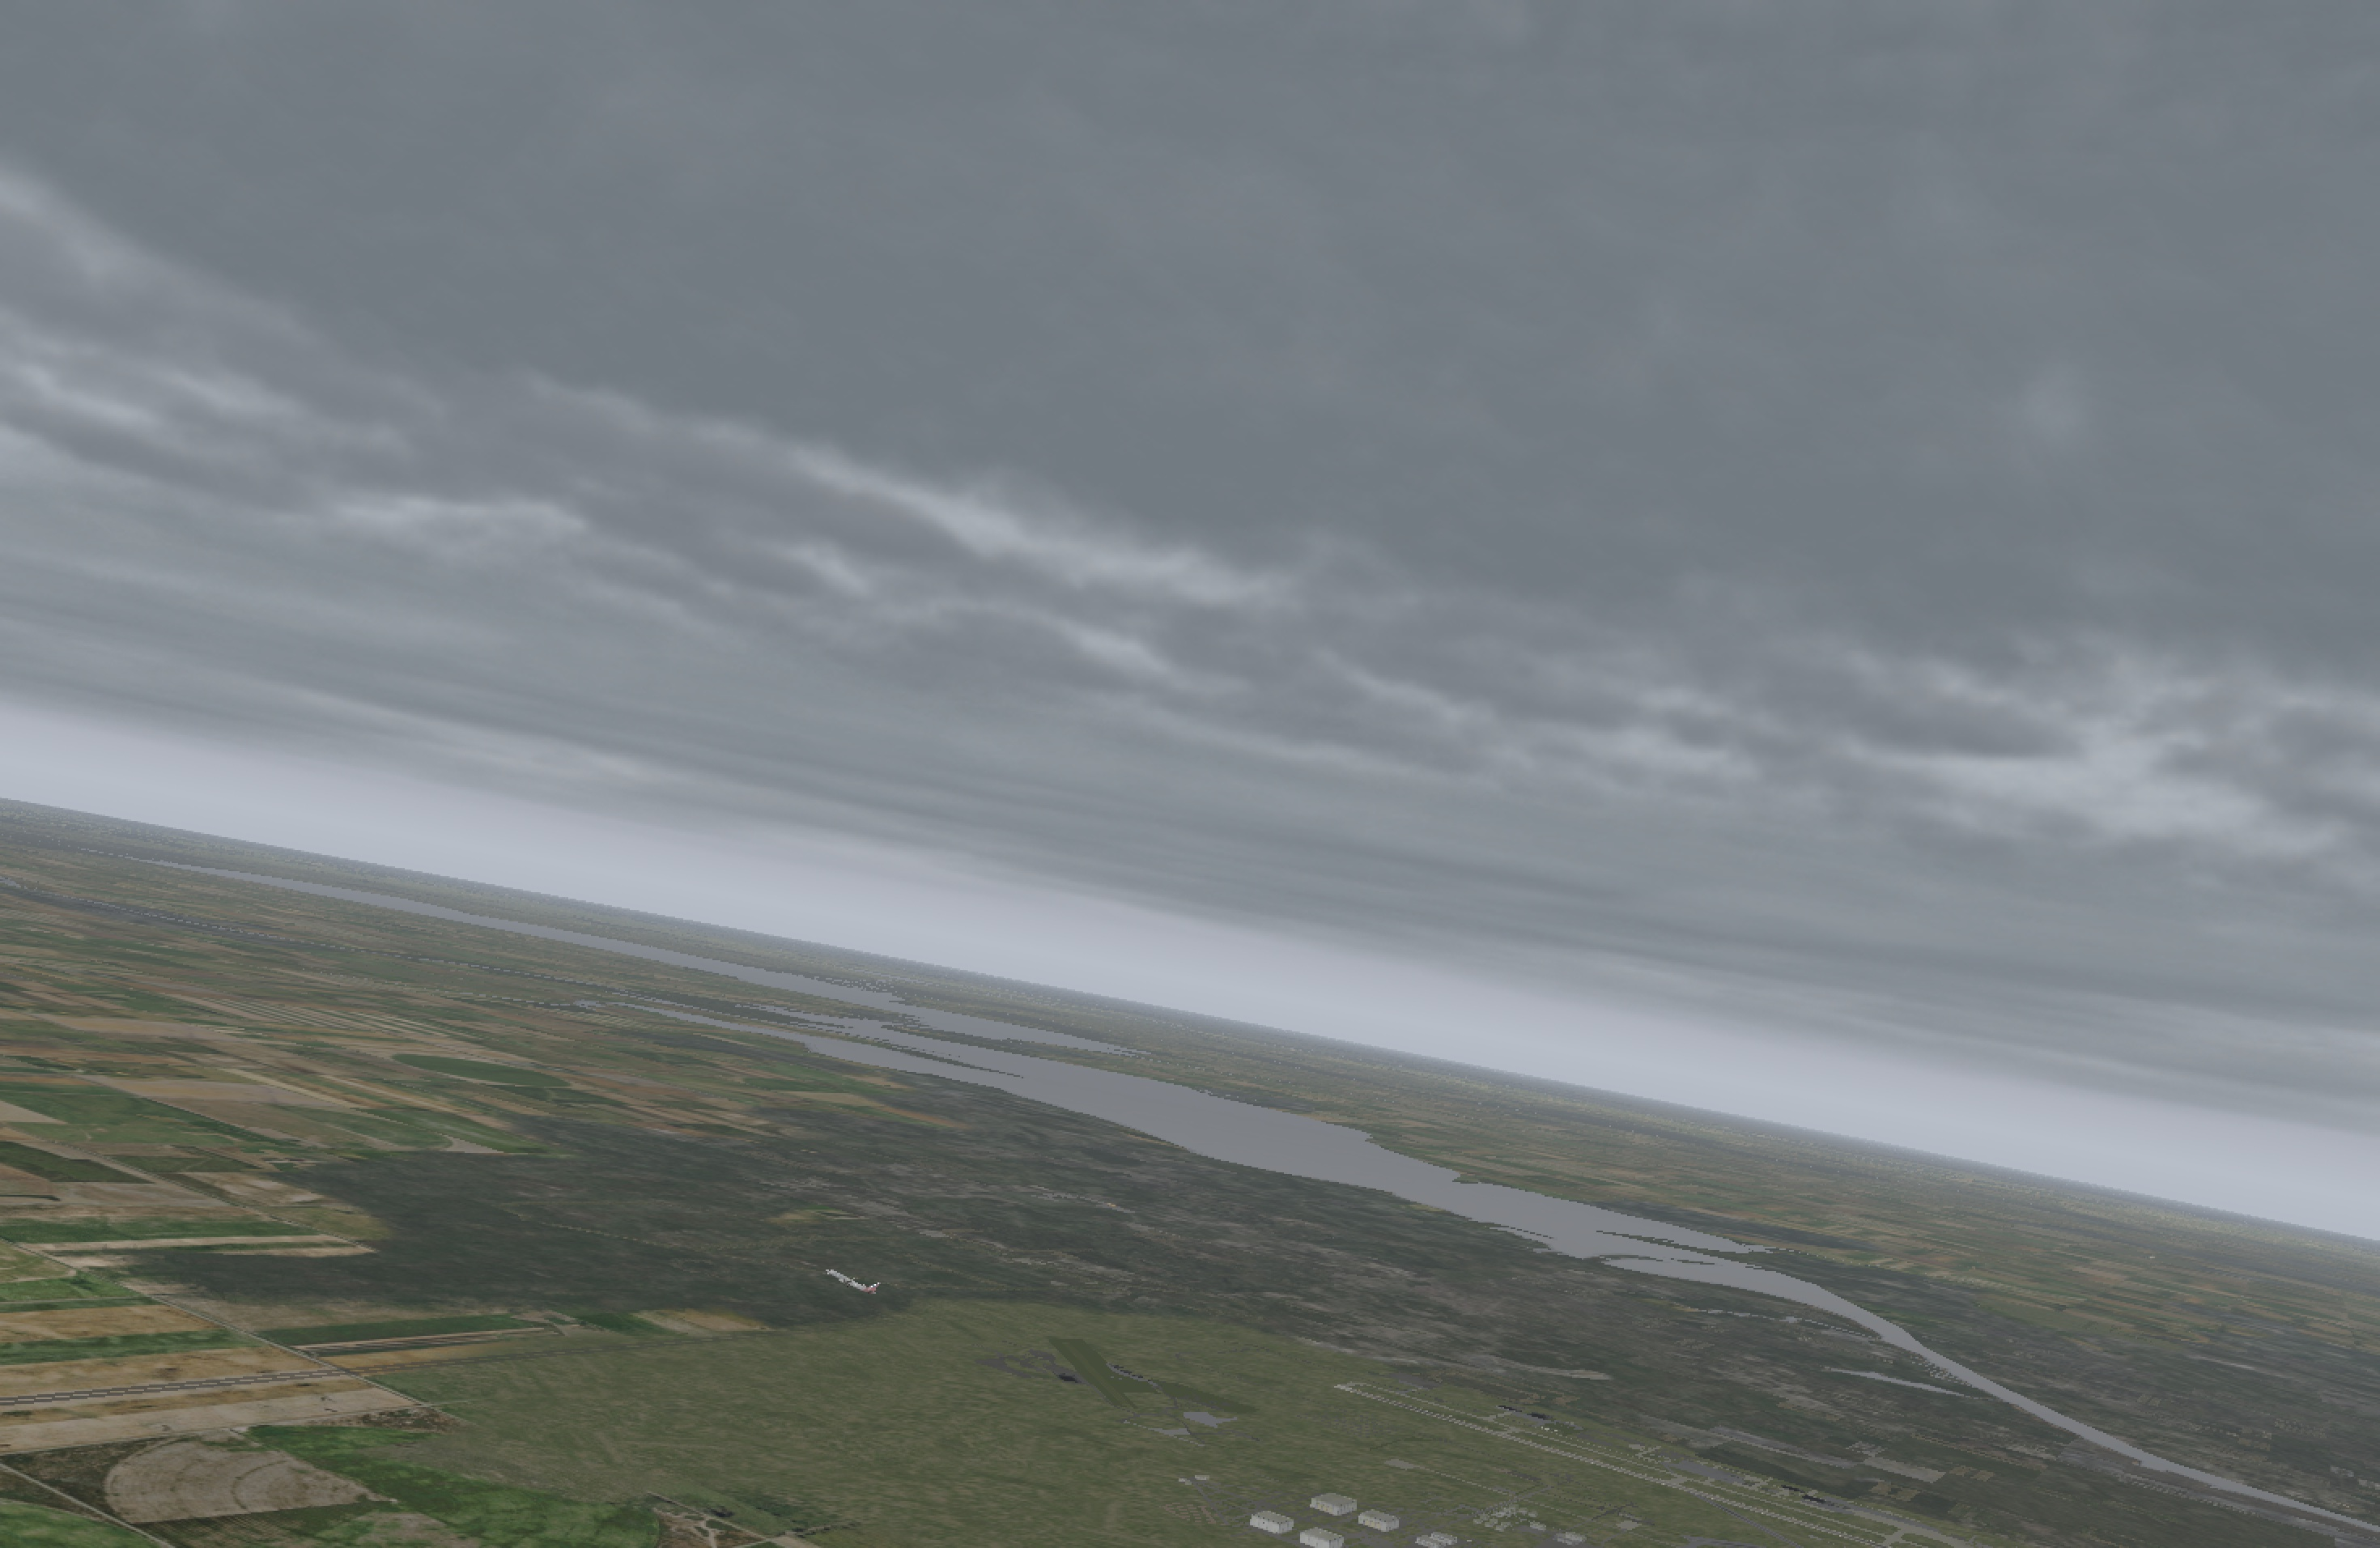aircraft: (821, 1272, 876, 1293)
